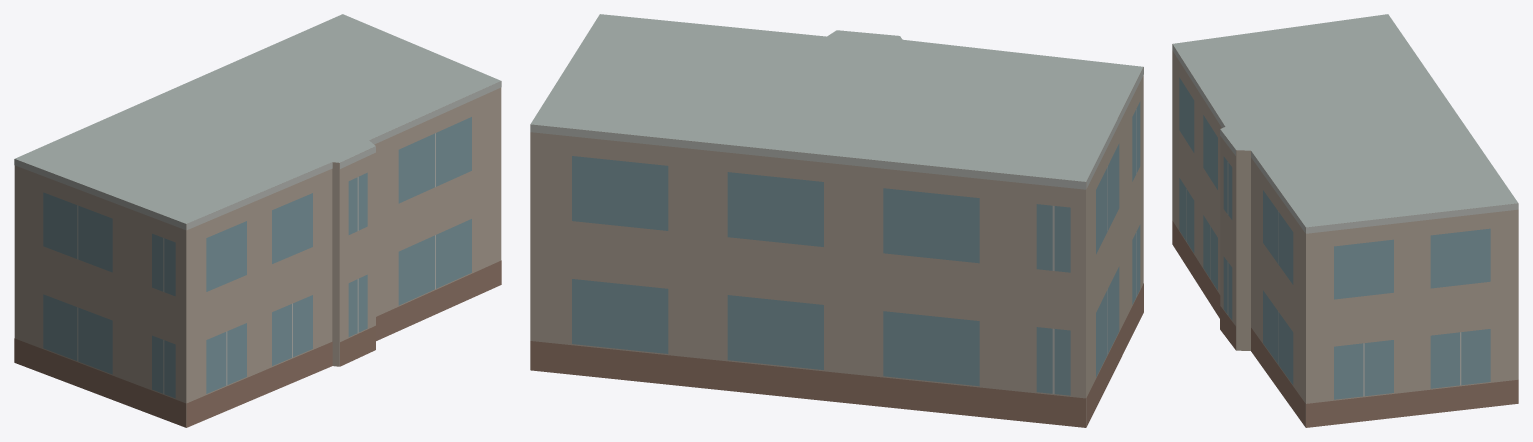
The model's file is survey-upis-33004036.glb.
3 views of the same model, side by side, from view 1: azimuth 30°, elevation 25°; view 2: azimuth 150°, elevation 25°; view 3: azimuth 270°, elevation 25° (orthographic). The views are drawn at different scales.
Visible parts, largest first — view 1: survey-upis-33004036.tmp; view 2: survey-upis-33004036.tmp; view 3: survey-upis-33004036.tmp.
Part boxes in pixels (box(x1,y1,x2,y2)): survey-upis-33004036.tmp: box(14, 14, 501, 427); survey-upis-33004036.tmp: box(530, 14, 1143, 427); survey-upis-33004036.tmp: box(1172, 14, 1518, 427).
Size of the model in its own units: 17.6 by 7.7 by 12.06.
